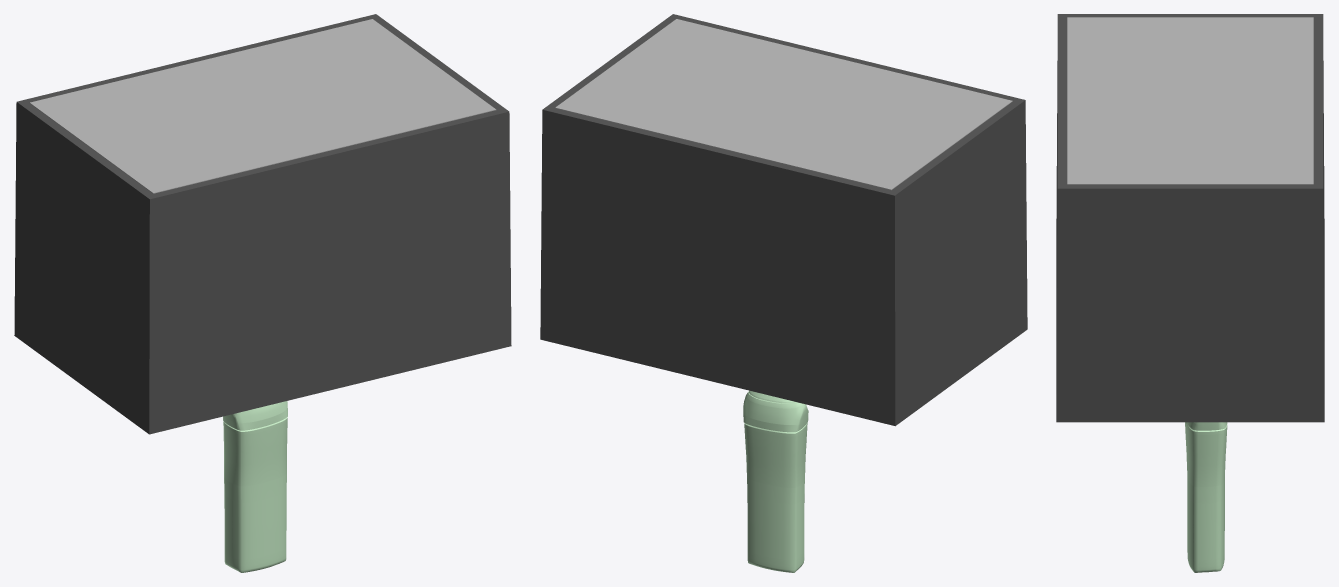
The model's file is shampoo_05.glb.
3 views of the same model, side by side, from view 1: azimuth 30°, elevation 25°; view 2: azimuth 150°, elevation 25°; view 3: azimuth 270°, elevation 25° (orthographic). The views are drawn at different scales.
Visible parts, largest first — view 1: caja_pantene_escena_02:caja_pantene_escena_01:polySurface52, caja_pantene_escena_02:caja_pantene_escena_01:polySurface53, caja_pantene_escena_02:caja_pantene_escena_01:obj:Box009; view 2: caja_pantene_escena_02:caja_pantene_escena_01:polySurface52, caja_pantene_escena_02:caja_pantene_escena_01:polySurface53, caja_pantene_escena_02:caja_pantene_escena_01:obj:Box009; view 3: caja_pantene_escena_02:caja_pantene_escena_01:polySurface52, caja_pantene_escena_02:caja_pantene_escena_01:polySurface53, caja_pantene_escena_02:caja_pantene_escena_01:obj:Box009.
Part boxes in pixels (x1,y1,x2,y2): caja_pantene_escena_02:caja_pantene_escena_01:polySurface52: (14,14,511,434); caja_pantene_escena_02:caja_pantene_escena_01:polySurface53: (30,19,496,193); caja_pantene_escena_02:caja_pantene_escena_01:obj:Box009: (223,401,287,572); caja_pantene_escena_02:caja_pantene_escena_01:polySurface52: (540,14,1027,426); caja_pantene_escena_02:caja_pantene_escena_01:polySurface53: (555,19,1012,190); caja_pantene_escena_02:caja_pantene_escena_01:obj:Box009: (743,390,808,572); caja_pantene_escena_02:caja_pantene_escena_01:polySurface52: (1056,14,1324,422); caja_pantene_escena_02:caja_pantene_escena_01:polySurface53: (1067,17,1313,184); caja_pantene_escena_02:caja_pantene_escena_01:obj:Box009: (1185,422,1227,572).
Bounding box in the file's own units: 32.66 × 39.84 × 21.06.
